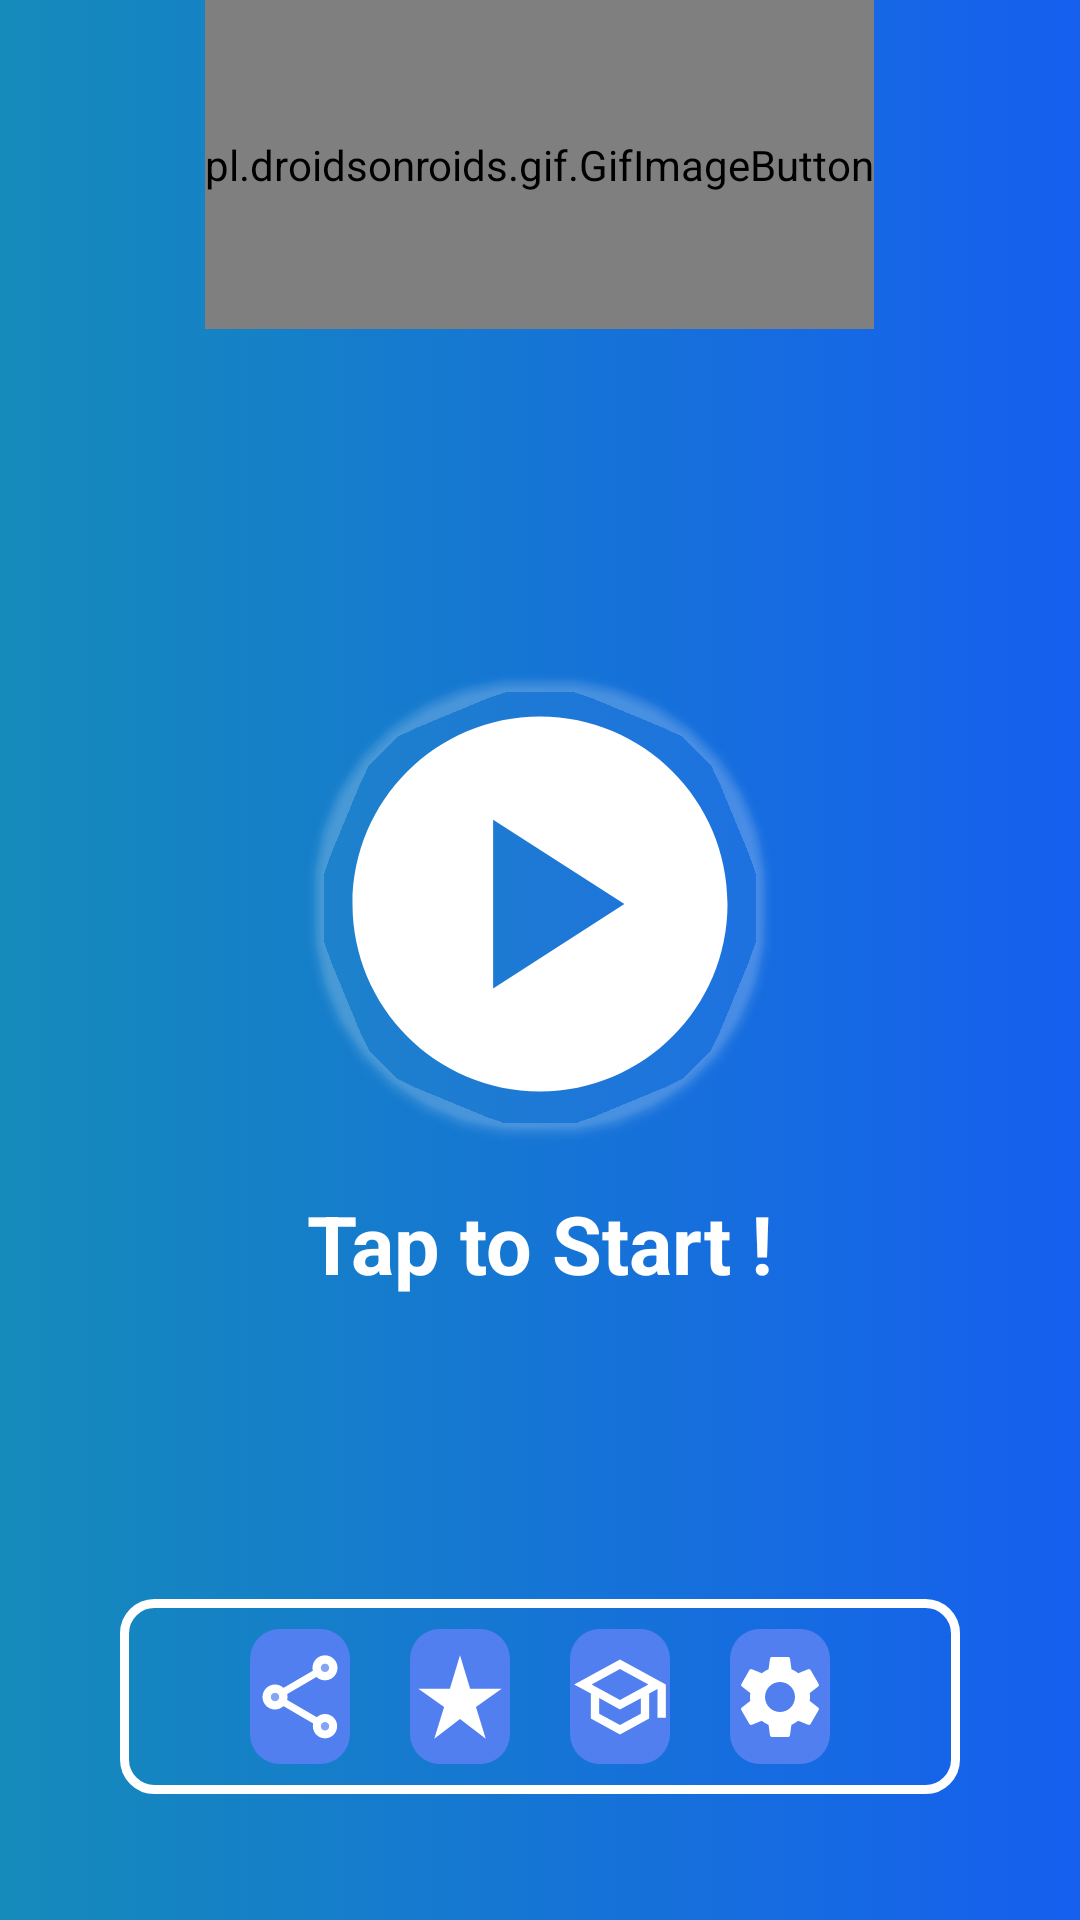

Icon click points for this 1080w x 1920h phone screenshot, format (x,y):
practice: (620,1696)
rating game: (460,1696)
settings: (780,1696)
share: (300,1696)
